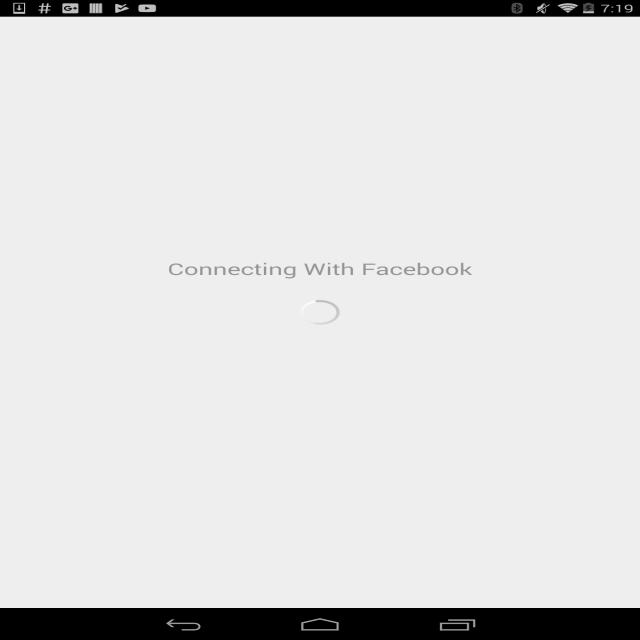Spinner: (294, 296, 348, 331)
TextView: (156, 252, 482, 280)
